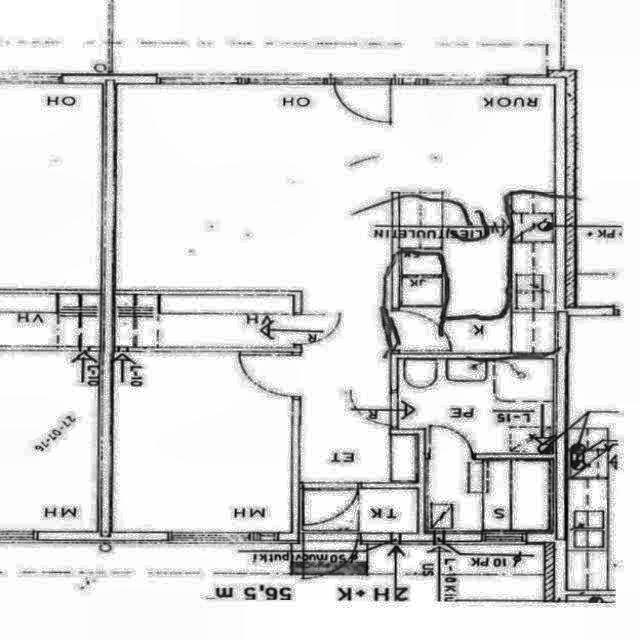room: (113, 351, 292, 532), (398, 359, 553, 453), (115, 295, 293, 347), (426, 459, 549, 530), (300, 489, 417, 533)
